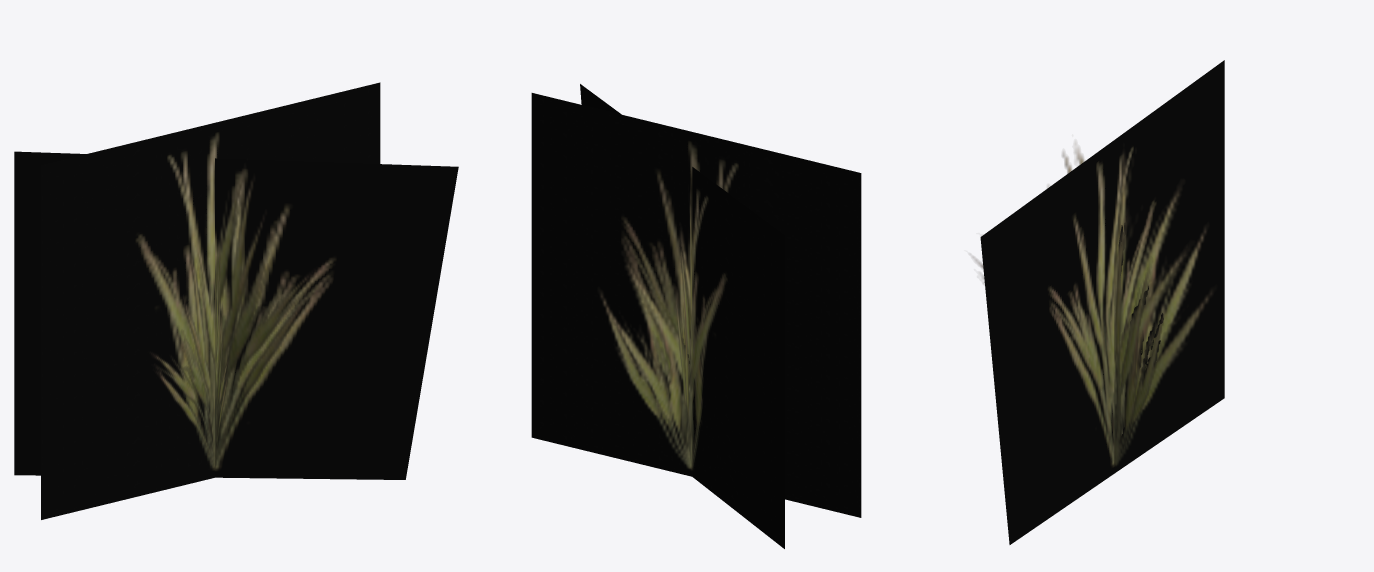
Rendered from spikegrass0offset_lod1.glb.
3 renders of one model, left to right at view 1: azimuth 30°, elevation 25°; view 2: azimuth 150°, elevation 25°; view 3: azimuth 270°, elevation 25°, orthographic. The views are drawn at different scales.
Parts seen in each view (by area): view 1: Grass-01; view 2: Grass-01; view 3: Grass-01.
Boxes of the visible parts, x1,y1,x2,y2 form: Grass-01: [14, 82, 458, 519]; Grass-01: [531, 84, 861, 548]; Grass-01: [970, 60, 1224, 544].
Bounding box in the file's own units: 1.25 × 1.34 × 1.33.
Materials: 2 (2 with a texture image).
